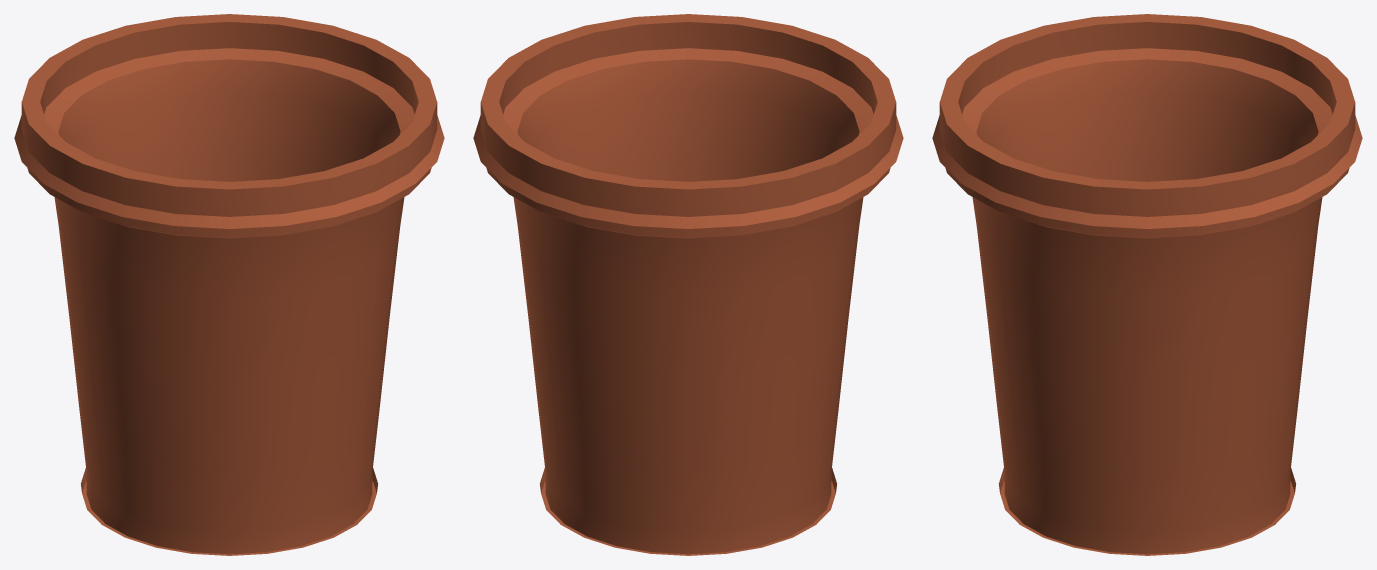
The model's file is pot_terracotta_8in.mid.glb.
3 views of the same model, side by side, from view 1: azimuth 30°, elevation 25°; view 2: azimuth 150°, elevation 25°; view 3: azimuth 270°, elevation 25° (orthographic).
Visible parts, largest first — view 1: pot_terracotta_8in; view 2: pot_terracotta_8in; view 3: pot_terracotta_8in.
Boxes of the visible parts, x1,y1,x2,y2 form: pot_terracotta_8in: (14,14,444,555); pot_terracotta_8in: (473,14,903,555); pot_terracotta_8in: (932,14,1362,555).
Size of the model in its own units: 0.2105 by 0.2117 by 0.2105.
